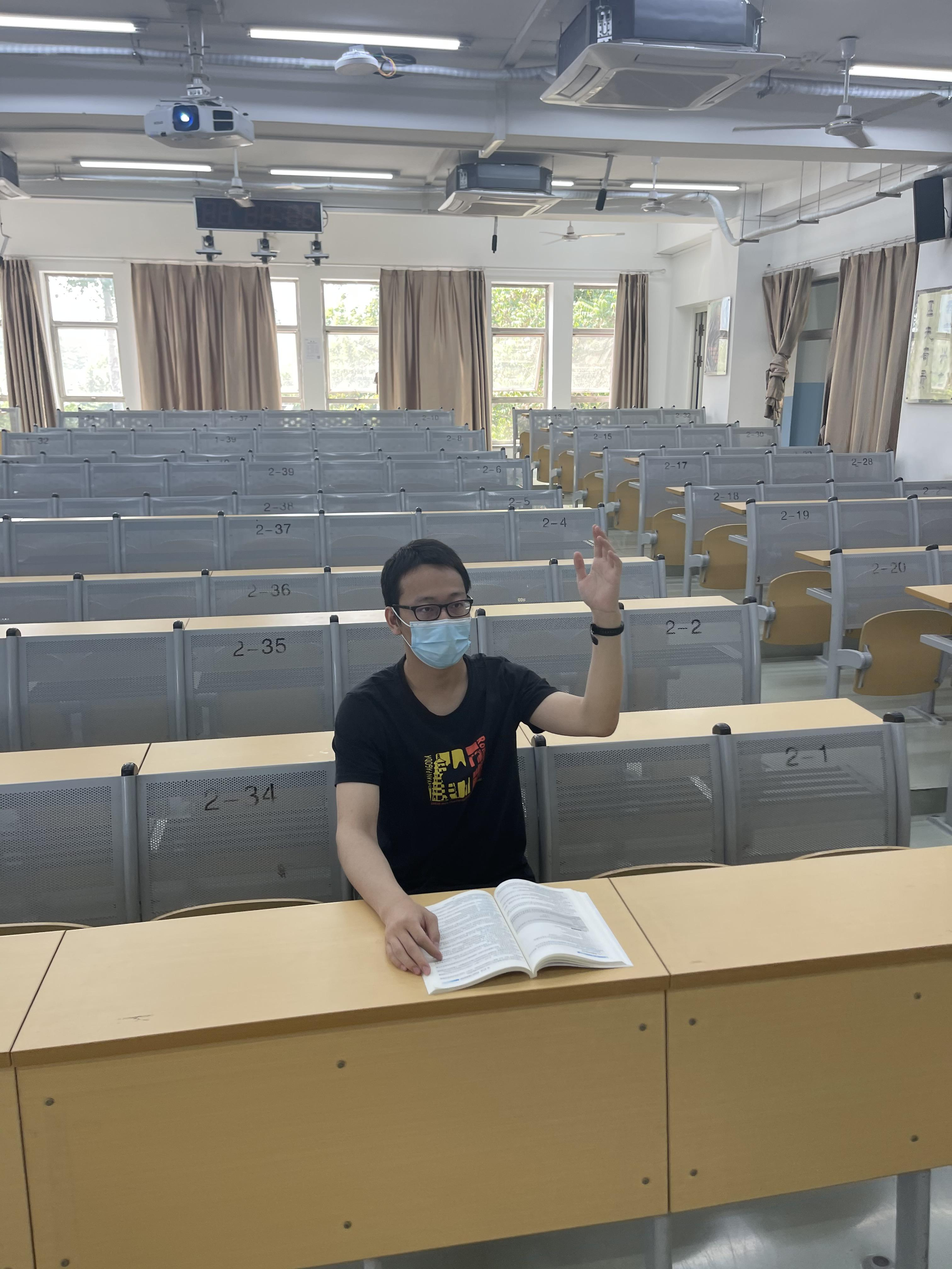study: (330, 523, 625, 977)
